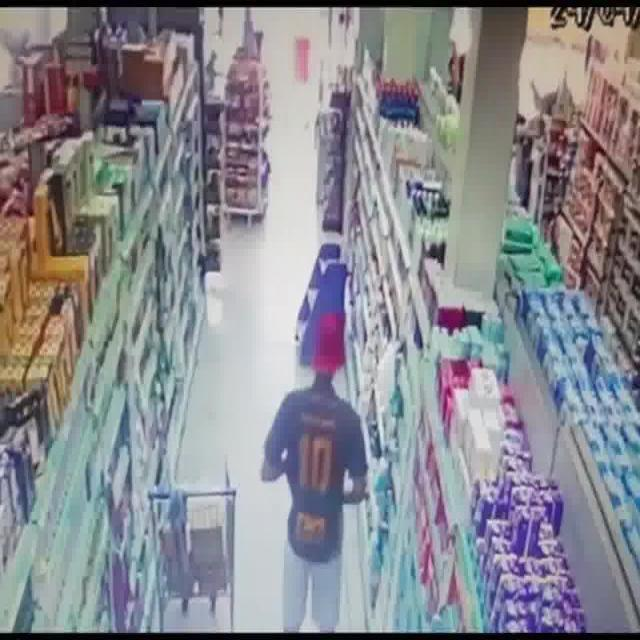Shoplifting: (250, 286, 374, 608)
